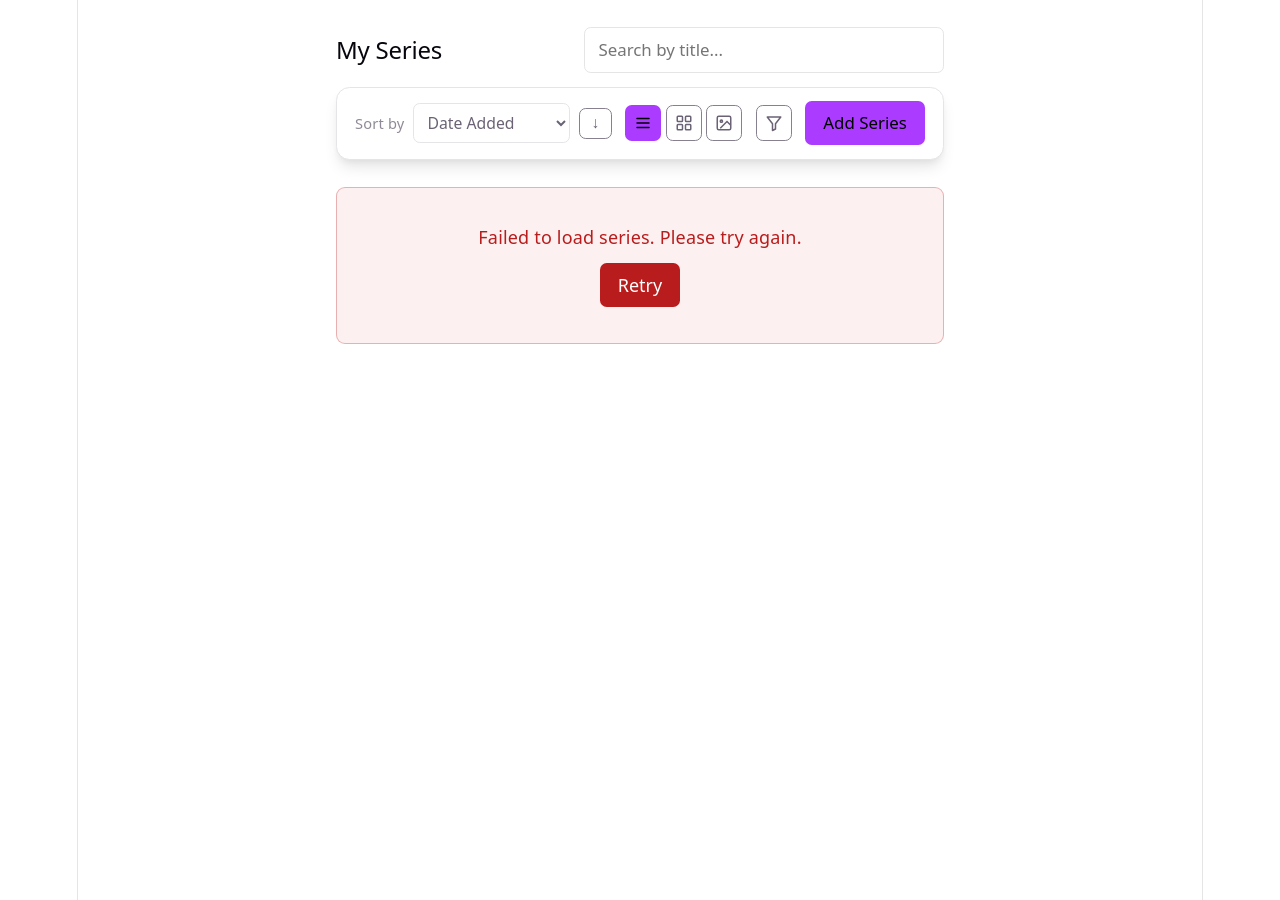
Test: IF-005: Error state › should re-fetch when Retry is clicked
Click the button "Retry" at (640, 285), box [600,263,680,307]
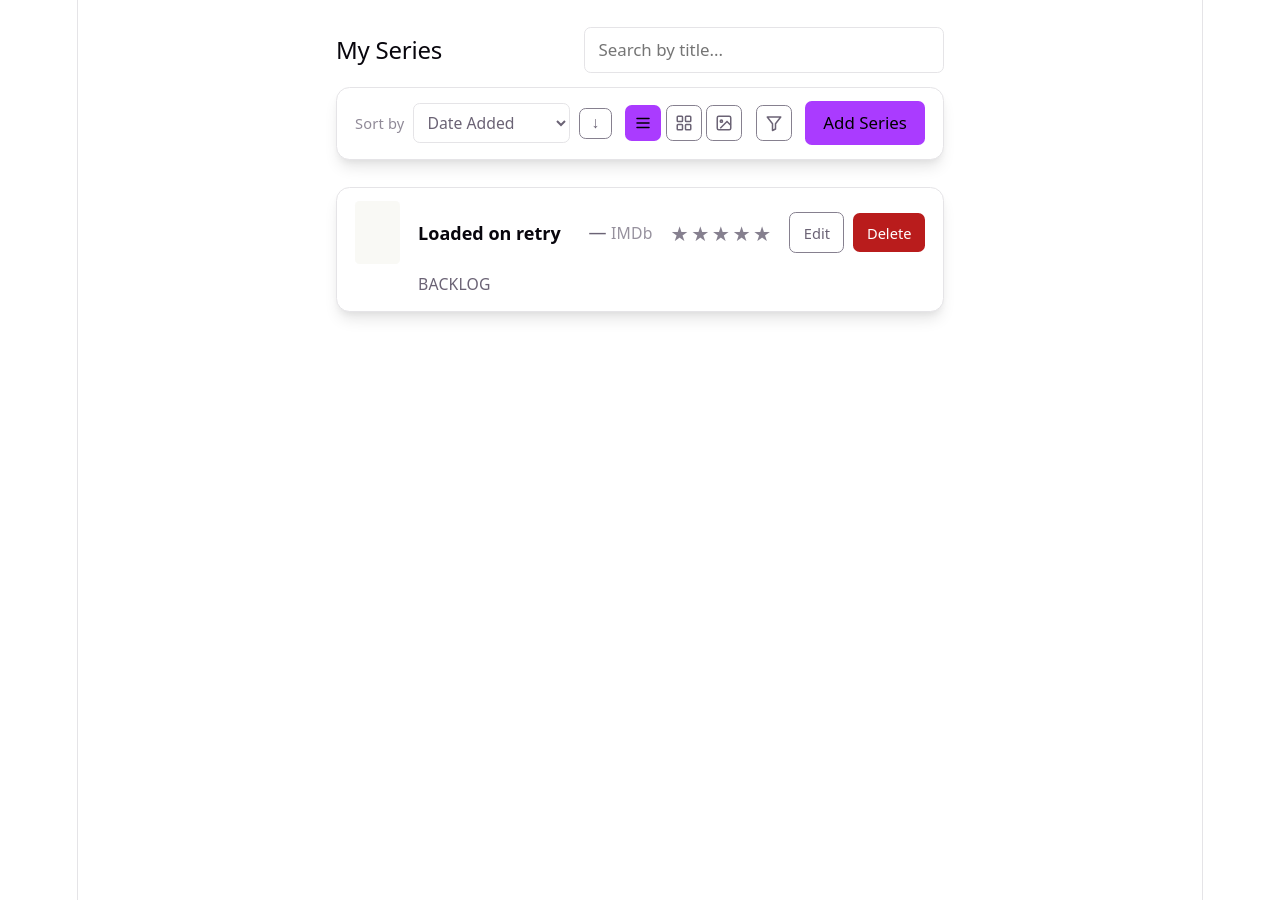
Expected: the button "Loaded on retry" is shown, [418,220,561,246]
